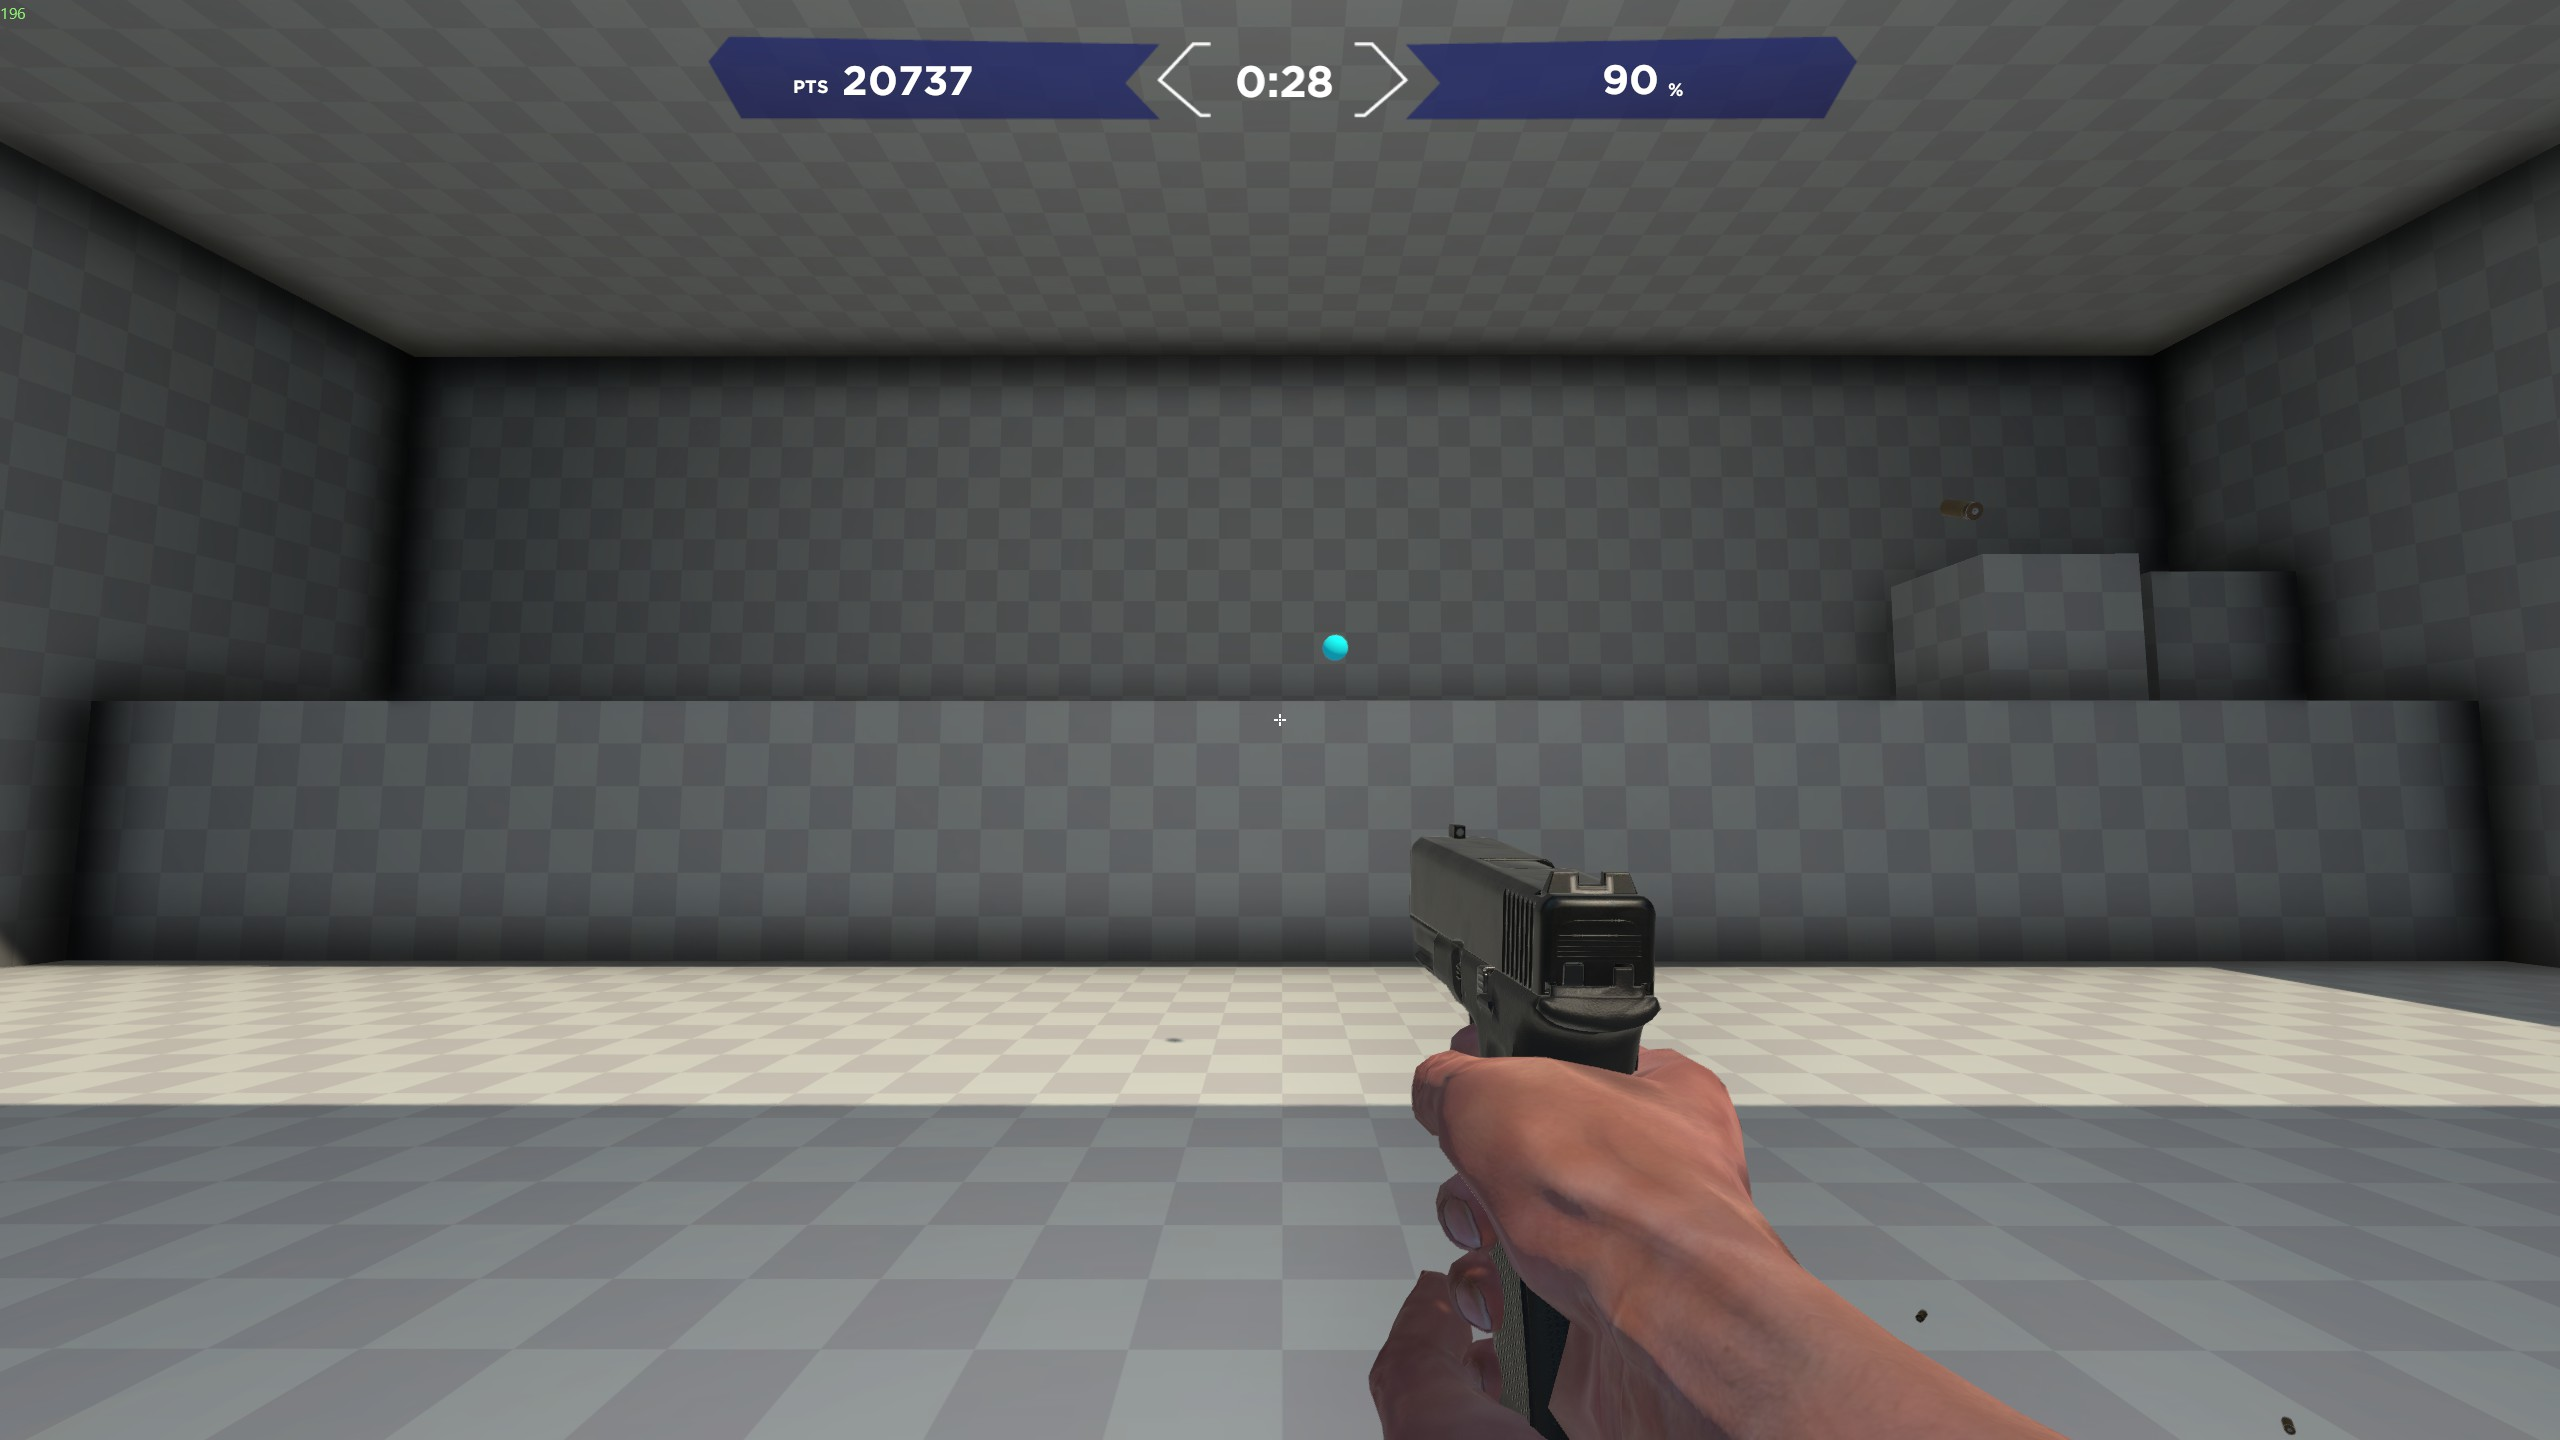Target: (1320, 633, 1354, 665)
